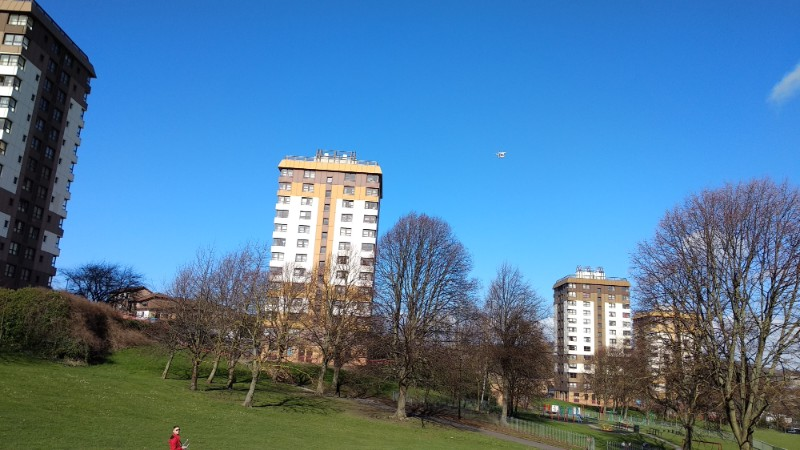drone: (495, 150, 508, 160)
